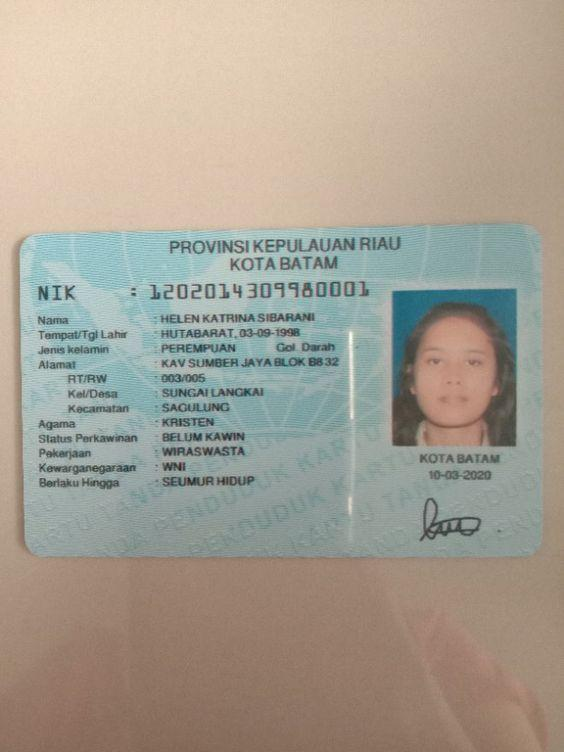ID-card: (20, 231, 541, 549)
